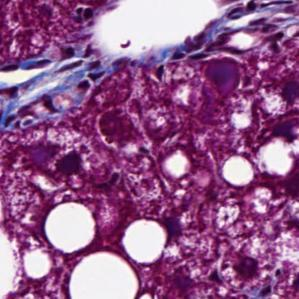inflammation: (206, 263, 237, 288)
